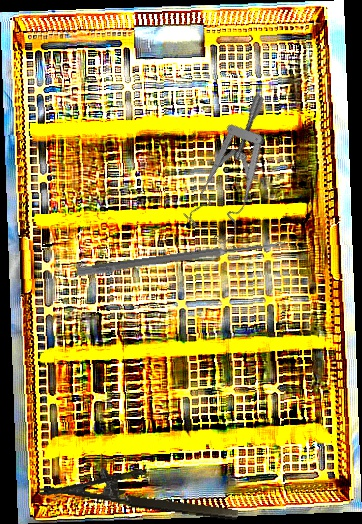Needle Holder: (38, 455, 243, 523)
Speculum: (159, 91, 318, 254)
Surgical Spoon: (76, 238, 286, 278)
